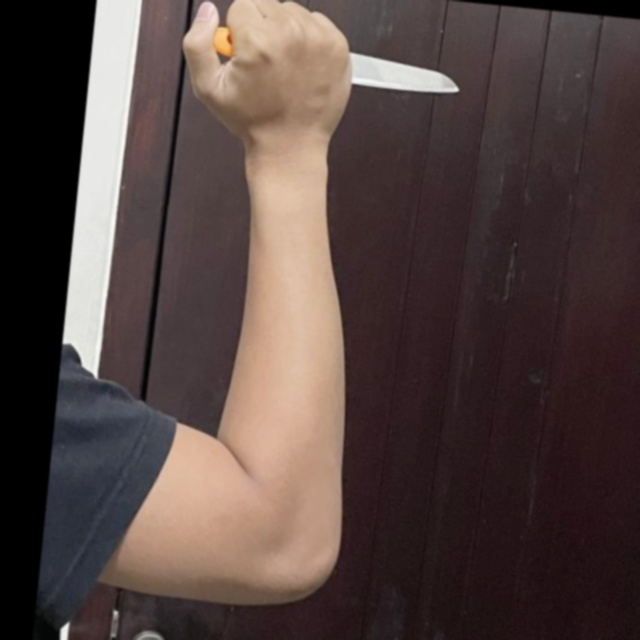Sharp-Object: (190, 21, 466, 98)
